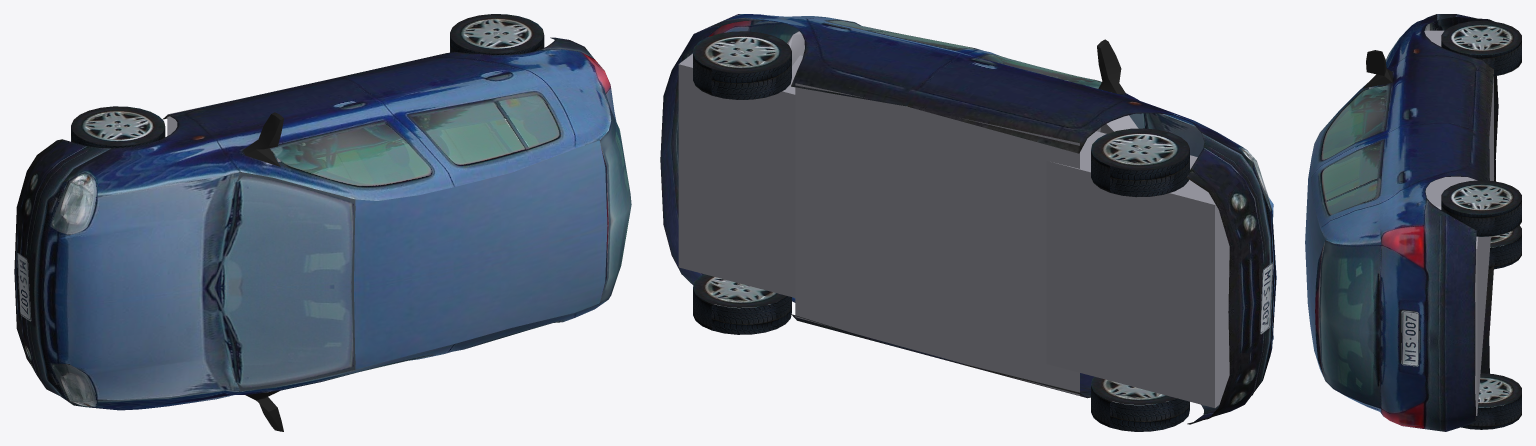
The model's file is Car_10.obj.
3 renders of one model, left to right at view 1: azimuth 30°, elevation 25°; view 2: azimuth 150°, elevation 25°; view 3: azimuth 270°, elevation 25°, orthographic. The views are drawn at different scales.
Visible parts, largest first — view 1: _0body, _0tyres, _0tyresurf, _0plates; view 2: _0fill, _0body, _0tyresurf, _0tyres, _0plates; view 3: _0body, _0tyres, _0tyresurf, _0fill, _0plates.
Boxes of the visible parts, x1,y1,x2,y2 form: _0body: (14, 37, 631, 431); _0tyres: (71, 14, 543, 145); _0tyresurf: (71, 34, 544, 148); _0plates: (17, 253, 31, 321); _0fill: (678, 31, 1229, 407); _0body: (660, 14, 1276, 424); _0tyresurf: (693, 52, 1189, 431); _0tyres: (693, 31, 1189, 405); _0plates: (1260, 262, 1273, 334); _0body: (1305, 14, 1498, 431); _0tyres: (1441, 20, 1521, 407); _0tyresurf: (1441, 41, 1521, 429); _0fill: (1369, 30, 1493, 415); _0plates: (1401, 310, 1419, 366).
Bounding box in the file's own units: 3.81 × 1.99 × 1.44.
